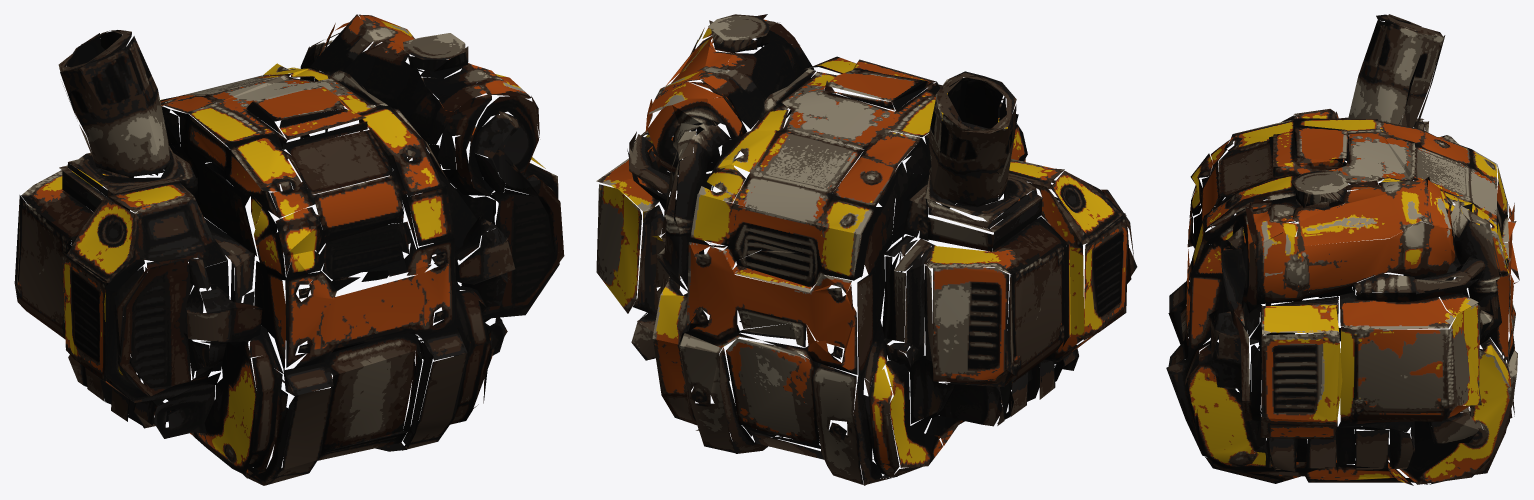
The model's file is mo_scavenger.glb.
The picture shows the model from 3 angles, left to right: view 1: azimuth 30°, elevation 25°; view 2: azimuth 150°, elevation 25°; view 3: azimuth 270°, elevation 25°; orthographic projection. The views are drawn at different scales.
Visible parts, largest first — view 1: mo_scavenger; view 2: mo_scavenger; view 3: mo_scavenger.
Boxes of the visible parts, left/top/right/bottom form: mo_scavenger: left=14, top=14, right=564, bottom=485; mo_scavenger: left=596, top=14, right=1137, bottom=485; mo_scavenger: left=1166, top=14, right=1519, bottom=485.
Bounding box in the file's own units: 0.2 × 0.1733 × 0.1483.
1 material, 1 textured.
